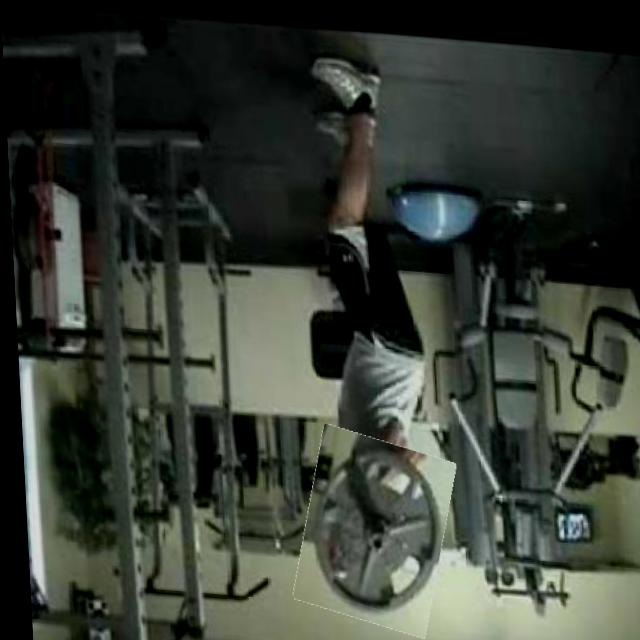barbell: (290, 423, 450, 628)
